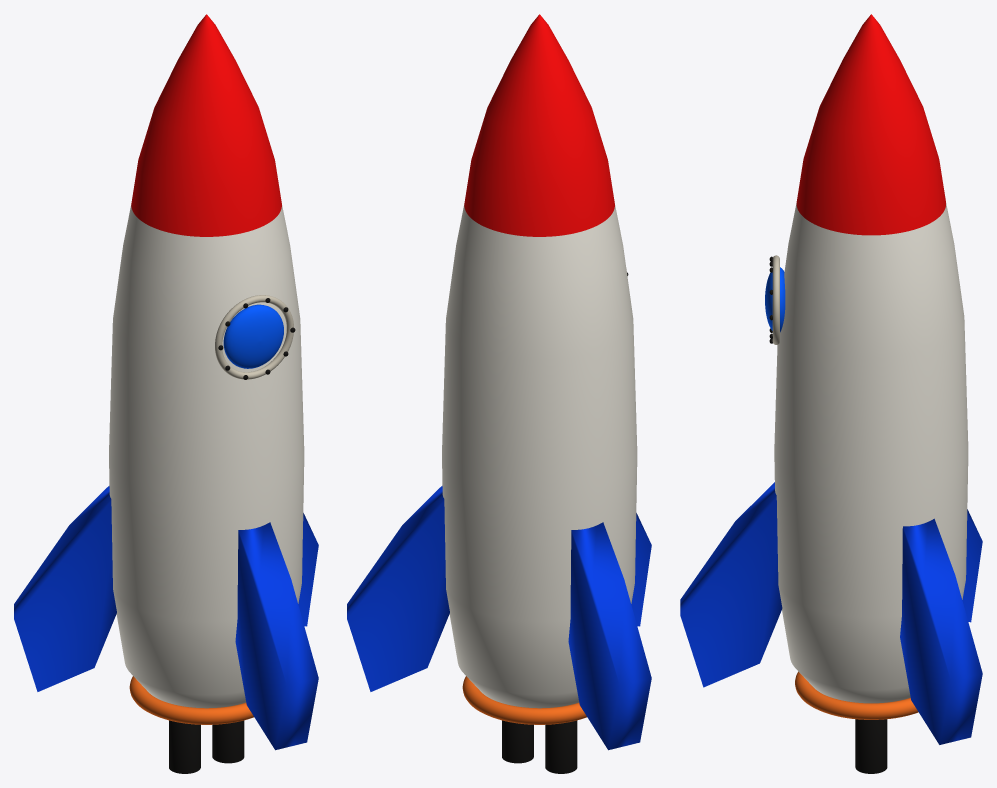
File: RocketIcon.dae
The picture shows the model from 3 angles, left to right: view 1: azimuth 30°, elevation 25°; view 2: azimuth 150°, elevation 25°; view 3: azimuth 270°, elevation 25°; orthographic projection.
Visible parts, largest first — view 1: glossyWhiteBody, candyRedNose, frontIconFin, leftIconFin, blueGlassWindow, tailRing, silverWindowRim, chromeEngineLeft, chromeEngineRight, rightIconFin; view 2: glossyWhiteBody, candyRedNose, leftIconFin, rightIconFin, tailRing, chromeEngineLeft, frontIconFin, chromeEngineRight; view 3: glossyWhiteBody, candyRedNose, rightIconFin, frontIconFin, tailRing, chromeEngineRight, leftIconFin, silverWindowRim, blueGlassWindow.
Boxes of the visible parts, <box> form: glossyWhiteBody: <box>109,205,304,708</box>; candyRedNose: <box>131,14,281,236</box>; frontIconFin: <box>235,522,318,750</box>; leftIconFin: <box>14,486,116,691</box>; blueGlassWindow: <box>223,304,283,368</box>; tailRing: <box>129,676,253,724</box>; silverWindowRim: <box>215,295,293,379</box>; chromeEngineLeft: <box>169,720,200,773</box>; chromeEngineRight: <box>212,720,244,763</box>; rightIconFin: <box>298,513,318,626</box>; glossyWhiteBody: <box>442,205,637,708</box>; candyRedNose: <box>464,14,614,236</box>; leftIconFin: <box>568,522,651,750</box>; rightIconFin: <box>347,486,449,691</box>; tailRing: <box>462,676,586,724</box>; chromeEngineLeft: <box>545,720,577,773</box>; frontIconFin: <box>631,513,651,626</box>; chromeEngineRight: <box>502,720,533,763</box>; glossyWhiteBody: <box>774,203,968,703</box>; candyRedNose: <box>796,14,945,235</box>; rightIconFin: <box>900,518,982,744</box>; frontIconFin: <box>680,482,782,687</box>; tailRing: <box>795,671,918,719</box>; chromeEngineRight: <box>855,719,887,773</box>; leftIconFin: <box>962,509,982,622</box>; silverWindowRim: <box>772,255,779,344</box>; blueGlassWindow: <box>765,267,785,332</box>.
Size of the model in its own units: 1.05 by 2.46 by 0.9101.
